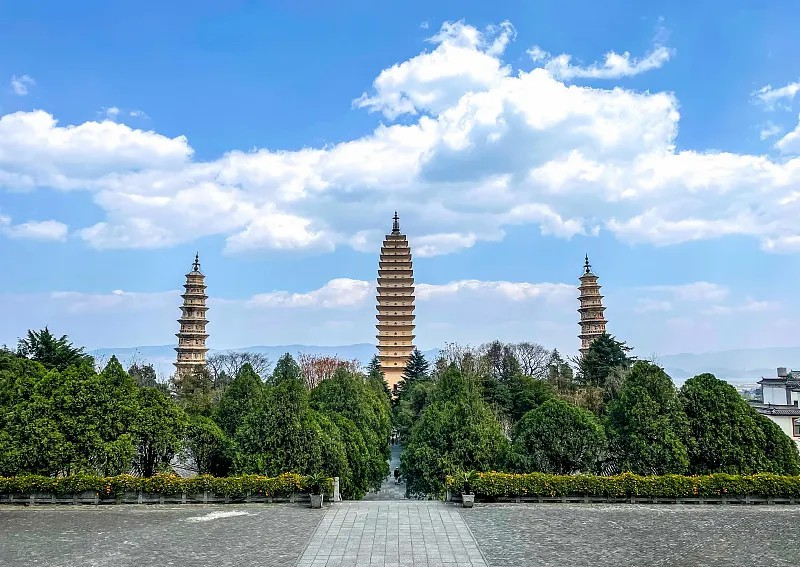ThreePagoda: (376, 211, 416, 398)
